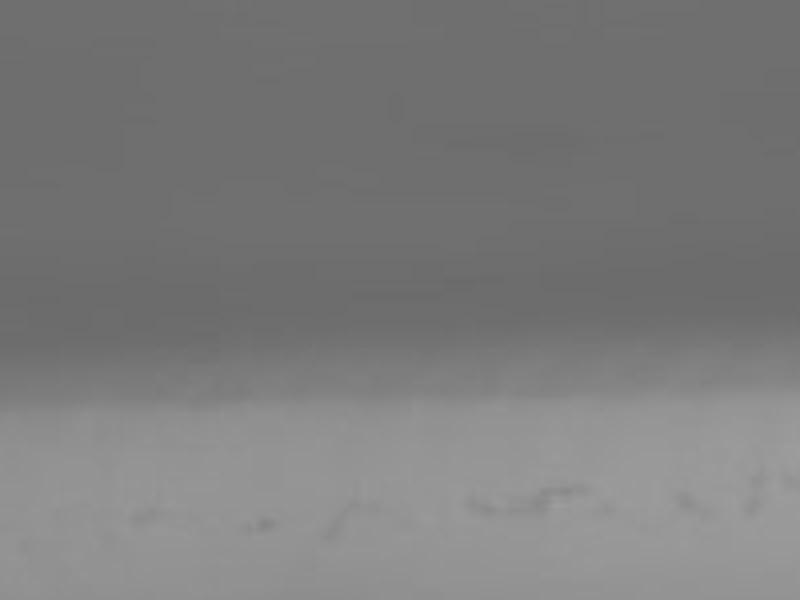defect: (126, 502, 170, 534), (323, 505, 360, 541), (462, 497, 497, 525), (668, 486, 698, 518), (522, 497, 557, 523), (534, 482, 584, 500), (742, 465, 766, 500), (246, 516, 283, 538), (737, 493, 767, 519), (775, 471, 799, 499), (601, 497, 623, 521)
